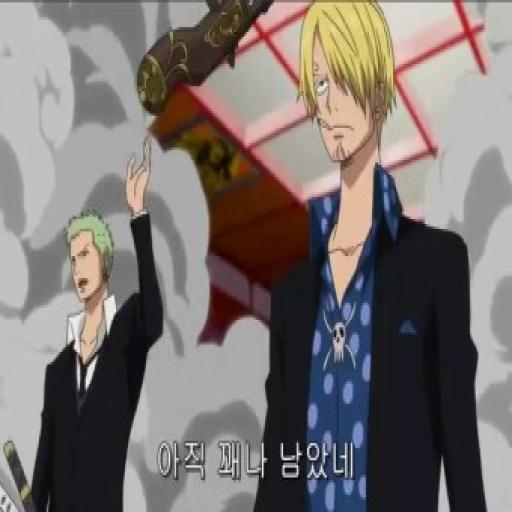Zoro: (60, 207, 120, 310)
sanji: (291, 0, 396, 161)
